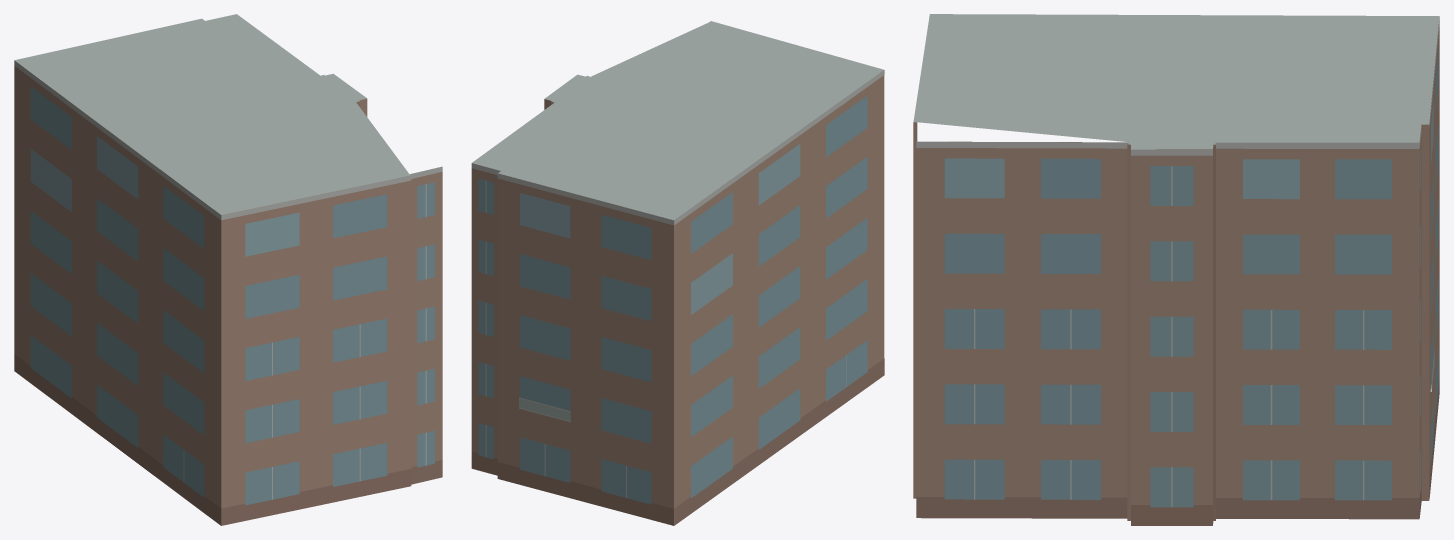
Rendered from survey-upis-32576705.glb.
The picture shows the model from 3 angles, left to right: view 1: azimuth 30°, elevation 25°; view 2: azimuth 150°, elevation 25°; view 3: azimuth 270°, elevation 25°; orthographic projection. The views are drawn at different scales.
Parts seen in each view (by area): view 1: survey-upis-32576705.tmp; view 2: survey-upis-32576705.tmp; view 3: survey-upis-32576705.tmp.
Part boxes in pixels (left/top/right/bottom): survey-upis-32576705.tmp: left=14, top=14, right=442, bottom=525; survey-upis-32576705.tmp: left=471, top=21, right=884, bottom=525; survey-upis-32576705.tmp: left=913, top=14, right=1439, bottom=525.
Size of the model in its own units: 11.28 by 14.6 by 18.51.
